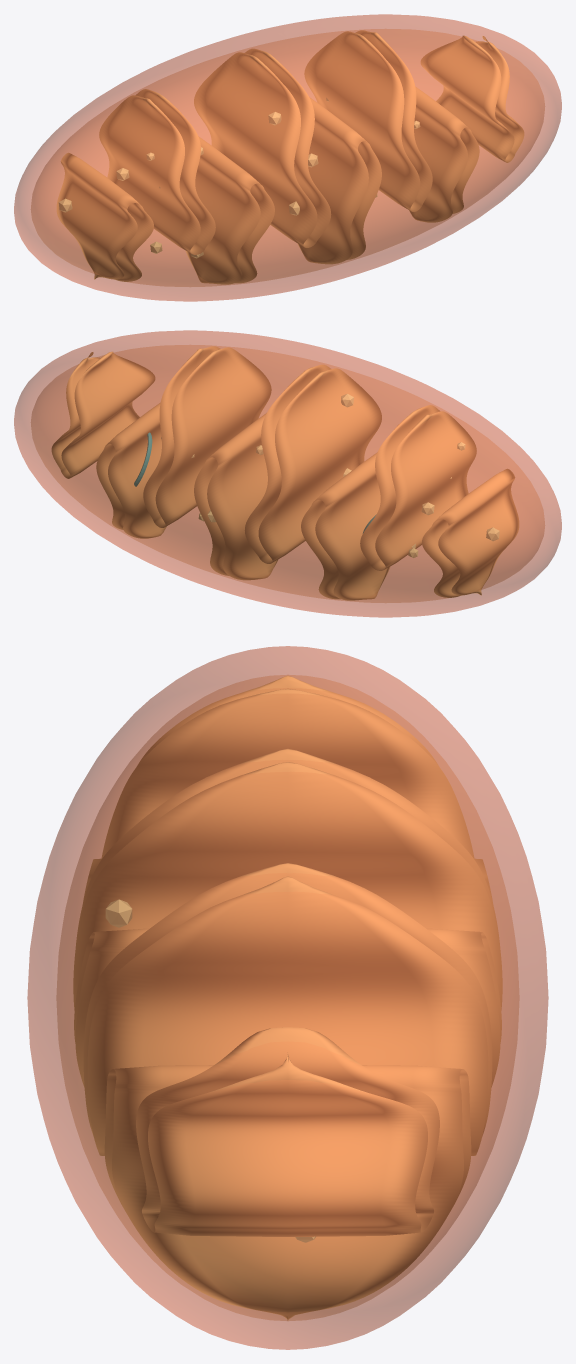
The model's file is mito.glb.
The picture shows the model from 3 angles, top to bottom: view 1: azimuth 30°, elevation 25°; view 2: azimuth 150°, elevation 25°; view 3: azimuth 270°, elevation 25°; orthographic projection. The views are drawn at different scales.
Parts seen in each view (by area): view 1: mito_outer, mito_inner, mito_cristae, mito_ribosome; view 2: mito_outer, mito_inner, mito_cristae, mito_ribosome; view 3: mito_outer, mito_inner, mito_cristae.
Part boxes in pixels (left/top/right/bottom): mito_outer: left=14, top=14, right=561, bottom=301; mito_inner: left=31, top=29, right=544, bottom=286; mito_cristae: left=56, top=30, right=524, bottom=284; mito_ribosome: left=58, top=98, right=420, bottom=258; mito_outer: left=14, top=330, right=561, bottom=617; mito_inner: left=31, top=345, right=544, bottom=602; mito_cristae: left=51, top=346, right=519, bottom=600; mito_ribosome: left=161, top=394, right=499, bottom=557; mito_outer: left=27, top=646, right=548, bottom=1349; mito_inner: left=56, top=675, right=519, bottom=1320; mito_cristae: left=73, top=675, right=502, bottom=1319.
Size of the model in its own units: 3.36 by 1.44 by 1.42.
